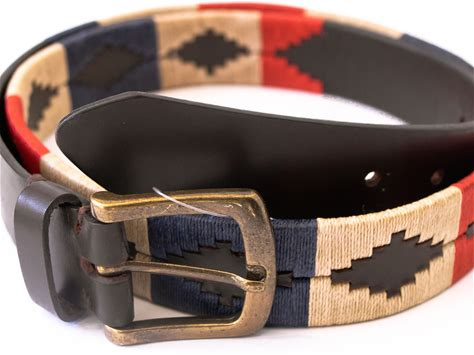cuero: (1, 1, 474, 340)
